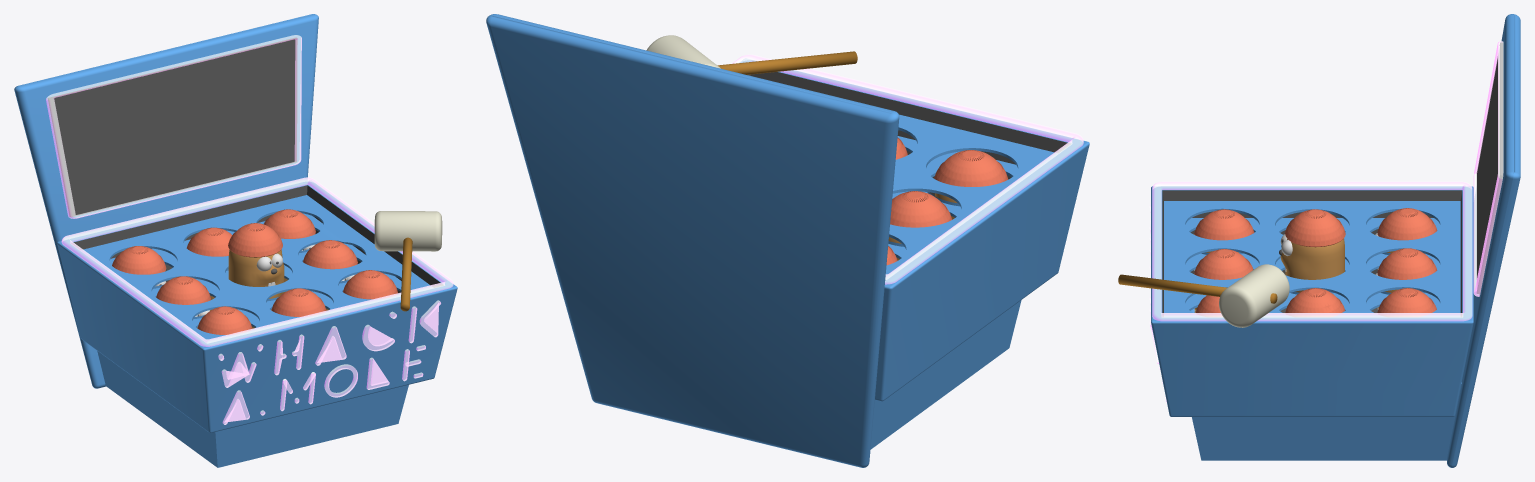
File: Mole2.fbx
3 renders of one model, left to right at view 1: azimuth 30°, elevation 25°; view 2: azimuth 150°, elevation 25°; view 3: azimuth 270°, elevation 25°, orthographic. The views are drawn at different scales.
Parts seen in each view (by area): view 1: Platform, hammer, projectile05, projectile06, projectile04, projectile01, projectile09, projectile03, projectile08, projectile07, projectile02; view 2: Platform, hammer, projectile07, projectile04; view 3: Platform, hammer, projectile05, projectile01, projectile02, projectile07, projectile08, projectile06, projectile03.
Part boxes in pixels (box(x1,y1,x2,y2)): Platform: box(14, 14, 457, 467); hammer: box(374, 211, 442, 311); projectile05: box(228, 223, 284, 328); projectile06: box(303, 240, 357, 310); projectile04: box(156, 276, 210, 328); projectile01: box(112, 246, 166, 286); projectile09: box(343, 270, 397, 299); projectile03: box(264, 209, 315, 293); projectile08: box(271, 288, 326, 316); projectile07: box(197, 306, 252, 334); projectile02: box(186, 227, 232, 310); Platform: box(486, 14, 1089, 467); hammer: box(646, 35, 857, 74); projectile07: box(934, 150, 1008, 219); projectile04: box(888, 191, 952, 260); Platform: box(1149, 14, 1520, 467); hammer: box(1118, 264, 1289, 327); projectile05: box(1279, 209, 1345, 292); projectile01: box(1375, 208, 1437, 269); projectile02: box(1375, 248, 1437, 309); projectile07: box(1193, 209, 1254, 270); projectile08: box(1194, 249, 1253, 312); projectile06: box(1285, 288, 1344, 312); projectile03: box(1377, 288, 1436, 312).
Size of the model in its own units: 663 by 606 by 687.
